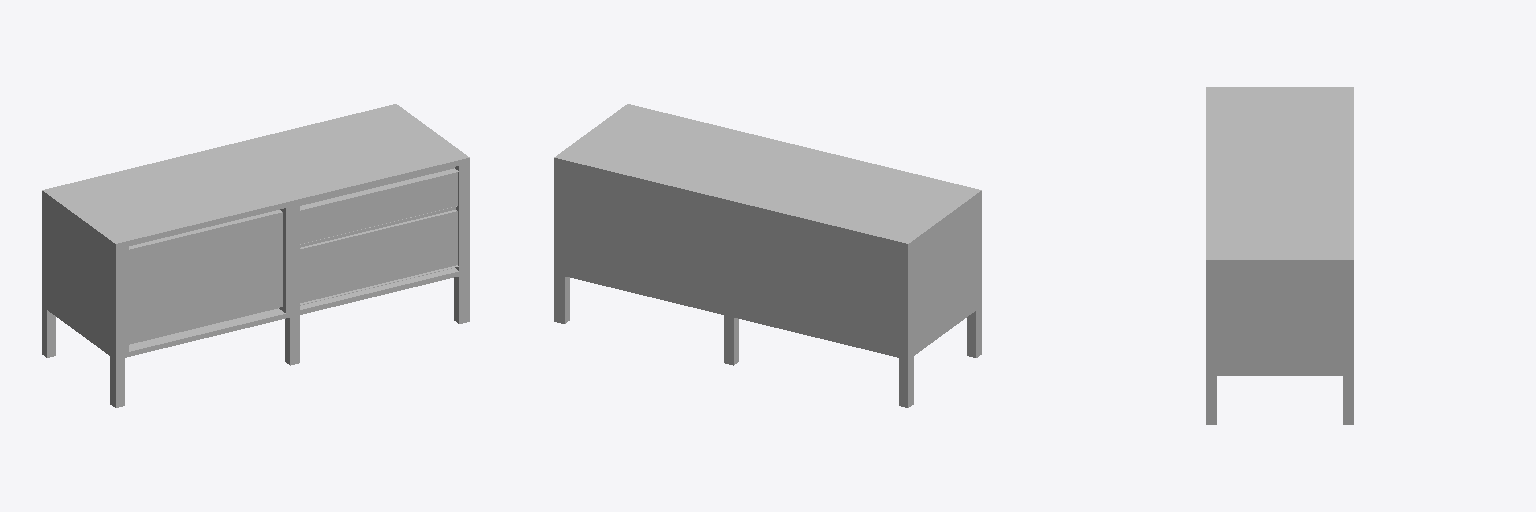
File: mesagrande.obj
3 views of the same model, side by side, from view 1: azimuth 30°, elevation 25°; view 2: azimuth 150°, elevation 25°; view 3: azimuth 270°, elevation 25° (orthographic).
Parts seen in each view (by area): view 1: polySurface55 polySurface24; view 2: polySurface55 polySurface24; view 3: polySurface55 polySurface24.
Part boxes in pixels (left/top/right/bottom): polySurface55 polySurface24: left=42, top=104, right=469, bottom=407; polySurface55 polySurface24: left=554, top=104, right=981, bottom=407; polySurface55 polySurface24: left=1206, top=87, right=1353, bottom=424.
Size of the model in its own units: 1.67 by 0.7415 by 0.6019.